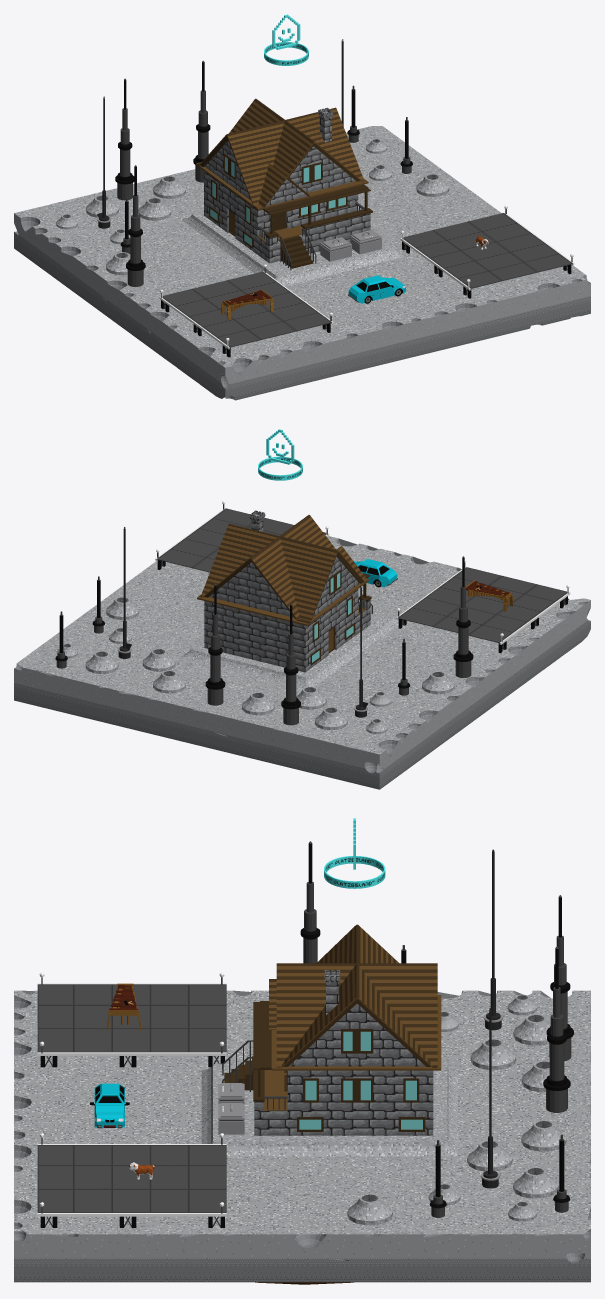
3 renders of one model, top to bottom at view 1: azimuth 30°, elevation 25°; view 2: azimuth 150°, elevation 25°; view 3: azimuth 270°, elevation 25°, orthographic. The views are drawn at different scales.
Parts seen in each view (by area): view 1: Cube.027, Cube.586, Cube.026, Cube.025, Cube.028, Cylinder.021, Cylinder.020, VEHICLES_CAR, Cylinder.017, TYPE_PREMIUM, OBJRANDOM_MARIMBA, Cube.029 (+4 smaller); view 2: Cube.027, Cube.586, Cube.025, Cube.028, Cube.026, Cylinder.017, Cylinder.021, Cylinder.020, TYPE_PREMIUM, VEHICLES_CAR, OBJRANDOM_MARIMBA, Cylinder.030 (+8 smaller); view 3: Cube.027, Cube.586, Cube.026, Cube.025, Cube.028, Cylinder.017, VEHICLES_CAR, Cylinder.020, Cylinder.021, TYPE_PREMIUM, Cylinder.033, Cylinder.031 (+11 smaller).
Part boxes in pixels (left/top/right/bottom): Cube.027: left=14, top=126, right=590, bottom=400; Cube.586: left=196, top=98, right=372, bottom=269; Cube.026: left=400, top=205, right=574, bottom=298; Cube.025: left=159, top=264, right=333, bottom=357; Cube.028: left=182, top=211, right=403, bottom=286; Cylinder.021: left=126, top=165, right=145, bottom=286; Cylinder.020: left=115, top=78, right=134, bottom=200; VEHICLES_CAR: left=348, top=275, right=405, bottom=303; Cylinder.017: left=193, top=60, right=210, bottom=182; TYPE_PREMIUM: left=264, top=14, right=308, bottom=65; OBJRANDOM_MARIMBA: left=221, top=289, right=274, bottom=319; Cube.029: left=320, top=237, right=351, bottom=261; Cube.027: left=14, top=536, right=590, bottom=789; Cube.586: left=197, top=510, right=372, bottom=672; Cube.025: left=396, top=560, right=570, bottom=653; Cube.028: left=181, top=610, right=398, bottom=688; Cube.026: left=155, top=501, right=329, bottom=572; Cylinder.017: left=205, top=583, right=225, bottom=705; Cylinder.021: left=453, top=556, right=473, bottom=677; Cylinder.020: left=281, top=603, right=300, bottom=725; TYPE_PREMIUM: left=258, top=429, right=302, bottom=480; VEHICLES_CAR: left=354, top=559, right=397, bottom=587; OBJRANDOM_MARIMBA: left=466, top=580, right=513, bottom=611; Cylinder.030: left=142, top=648, right=175, bottom=671; Cube.027: left=14, top=990, right=590, bottom=1282; Cube.586: left=222, top=924, right=441, bottom=1135; Cube.026: left=37, top=1133, right=226, bottom=1227; Cube.025: left=37, top=972, right=226, bottom=1067; Cube.028: left=201, top=1063, right=457, bottom=1156; Cylinder.017: left=543, top=946, right=570, bottom=1112; VEHICLES_CAR: left=90, top=1083, right=129, bottom=1128; Cylinder.020: left=546, top=895, right=573, bottom=1061; Cylinder.021: left=300, top=841, right=320, bottom=963; TYPE_PREMIUM: left=324, top=818, right=385, bottom=888; Cylinder.033: left=347, top=1193, right=392, bottom=1225; Cylinder.031: left=513, top=1167, right=558, bottom=1198.
Bounding box in the file's own units: 4000 × 2770 × 4000.
42 materials, 6 textured.
